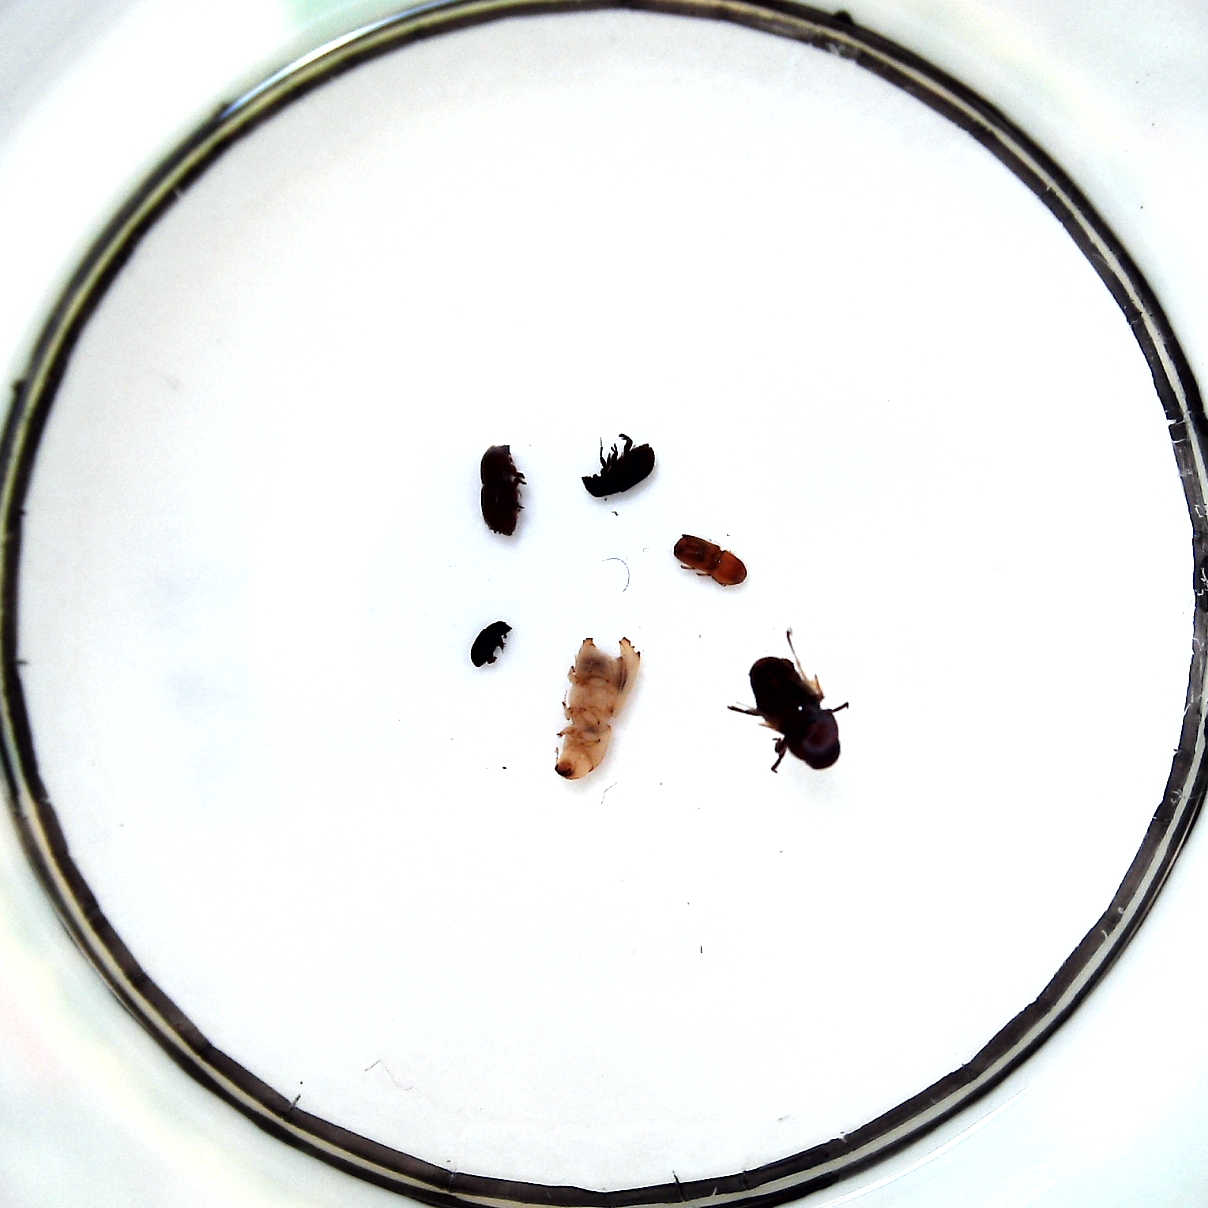Boerner: (554, 635, 641, 780)
Leconte: (751, 657, 841, 769)
acuminatus: (471, 621, 511, 667)
armandi: (581, 434, 656, 497)
linnaeus: (481, 444, 525, 537), (673, 533, 747, 587)
